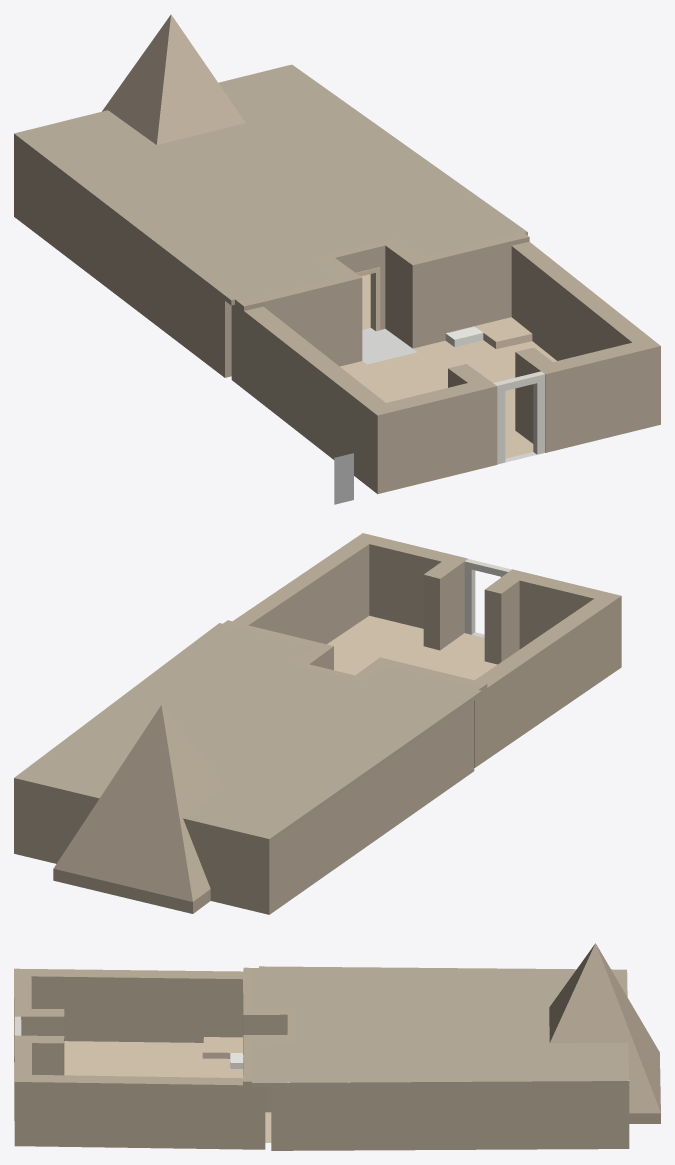
Rendered from Ramose.glb.
3 views of the same model, one above another, from view 1: azimuth 30°, elevation 25°; view 2: azimuth 150°, elevation 25°; view 3: azimuth 270°, elevation 25° (orthographic). The views are drawn at different scales.
Visible parts, largest first — view 1: Mesh6 Model, Mesh8 Model, Mesh9 Model; view 2: Mesh6 Model, Mesh8 Model; view 3: Mesh6 Model, Mesh8 Model.
Part boxes in pixels (box(x1,y1,x2,y2)): Mesh6 Model: box(14, 64, 660, 494); Mesh8 Model: box(102, 14, 245, 144); Mesh9 Model: box(334, 453, 353, 504); Mesh6 Model: box(14, 533, 621, 914); Mesh8 Model: box(53, 705, 225, 913); Mesh6 Model: box(14, 966, 629, 1150); Mesh8 Model: box(549, 943, 660, 1123).
Bounding box in the file's own units: 12.1 × 6.25 × 24.45.
